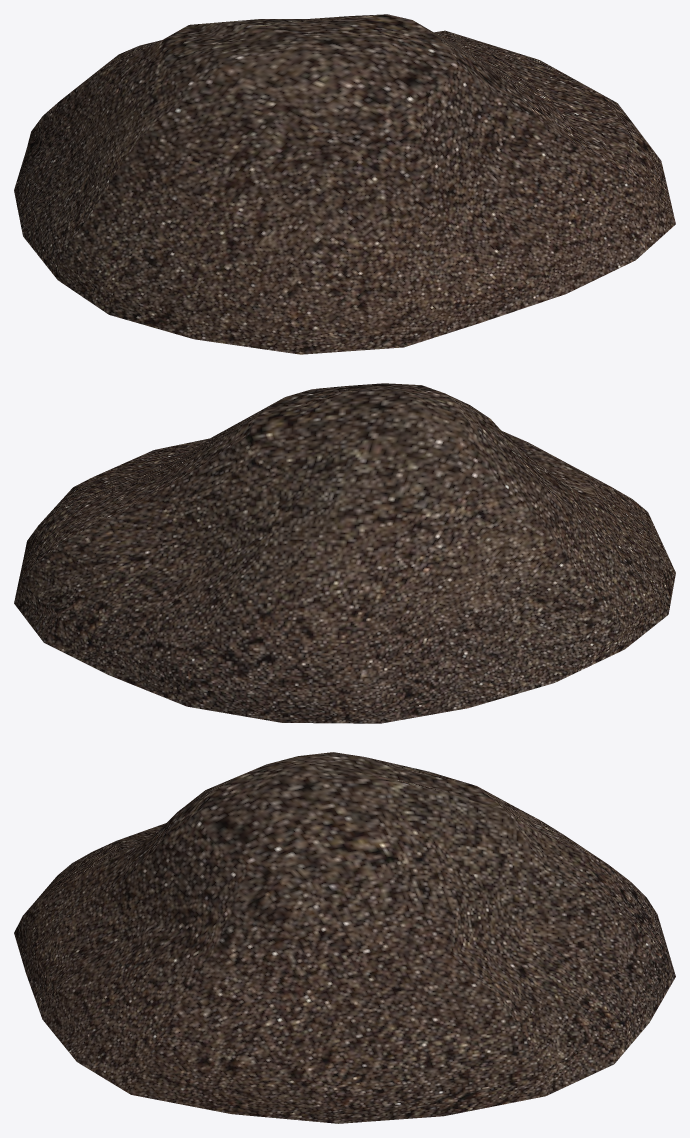
The model's file is geo_DirtMound.fbx.
3 views of the same model, one above another, from view 1: azimuth 30°, elevation 25°; view 2: azimuth 150°, elevation 25°; view 3: azimuth 270°, elevation 25° (orthographic). The views are drawn at different scales.
Parts seen in each view (by area): view 1: geo_DirtMound; view 2: geo_DirtMound; view 3: geo_DirtMound.
Boxes of the visible parts, x1=… form: geo_DirtMound: x1=14, y1=14, x2=675, y2=354; geo_DirtMound: x1=14, y1=383, x2=675, y2=723; geo_DirtMound: x1=14, y1=752, x2=675, y2=1123.
Size of the model in its own units: 152 by 45.98 by 150.
1 material, 1 textured.
